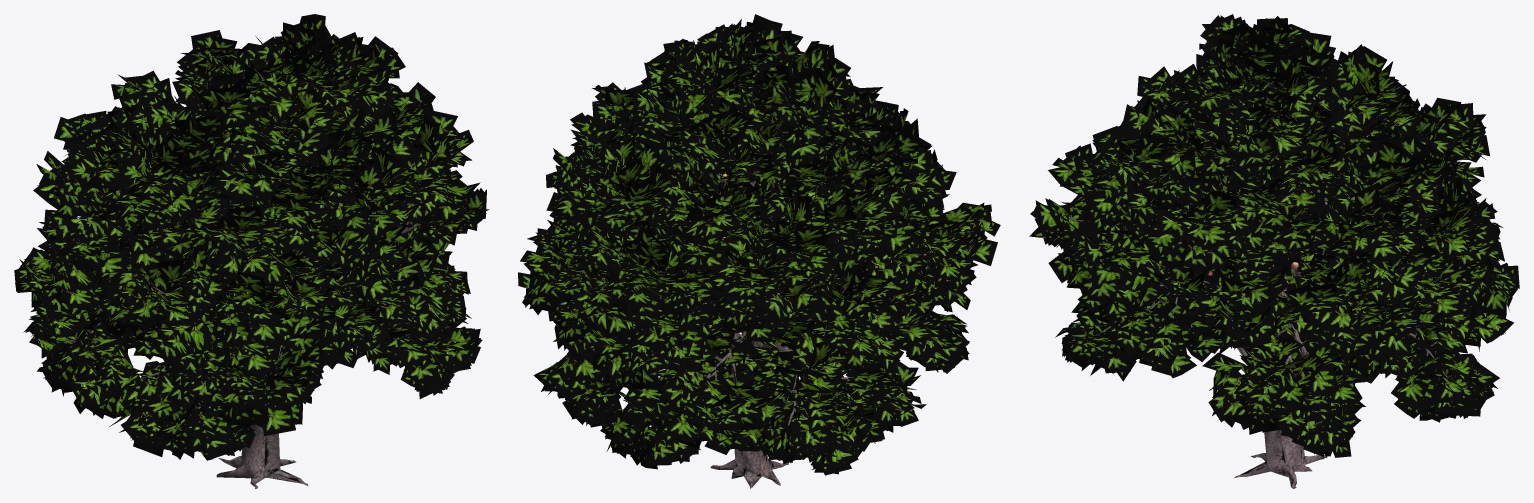
File: mango_tree.glb
The picture shows the model from 3 angles, left to right: view 1: azimuth 30°, elevation 25°; view 2: azimuth 150°, elevation 25°; view 3: azimuth 270°, elevation 25°; orthographic projection. The views are drawn at different scales.
Visible parts, largest first — view 1: leaves, tree; view 2: leaves, tree; view 3: leaves, tree.
Boxes of the visible parts, x1,y1,x2,y2 form: leaves: (14, 14, 489, 460); tree: (49, 65, 450, 488); leaves: (518, 14, 1000, 475); tree: (572, 68, 905, 488); leaves: (1029, 14, 1519, 457); tree: (1068, 92, 1448, 488).
Size of the model in its own units: 6.69 by 6.86 by 6.76.
3 materials, 3 textured.
